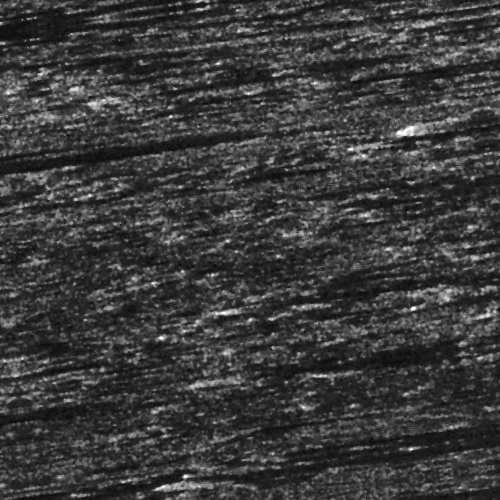object: (124, 467, 207, 476), (189, 299, 262, 308), (455, 381, 500, 394), (210, 449, 273, 458), (183, 369, 246, 376), (443, 144, 484, 151), (389, 157, 420, 160), (171, 459, 182, 464)
shadow: (0, 459, 500, 466), (166, 467, 500, 476), (0, 467, 500, 472), (242, 449, 500, 458), (226, 299, 468, 308), (214, 369, 476, 376), (177, 459, 249, 464), (405, 157, 500, 160), (463, 144, 500, 151)
